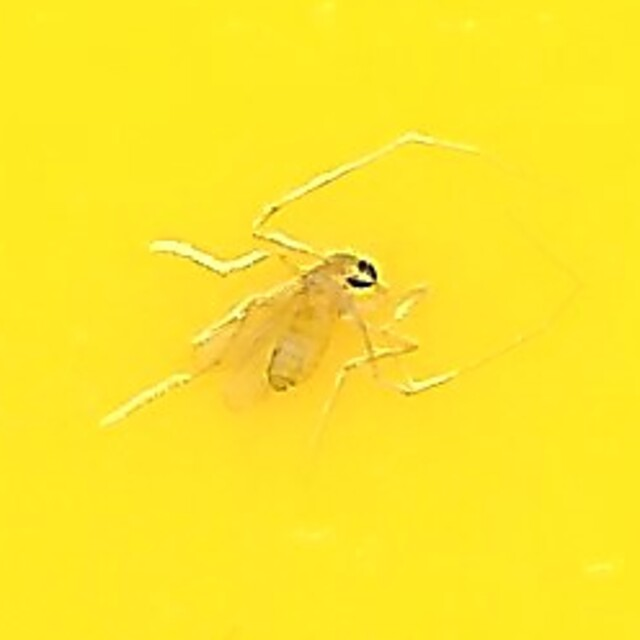Nematocera: (258, 243, 382, 397)
